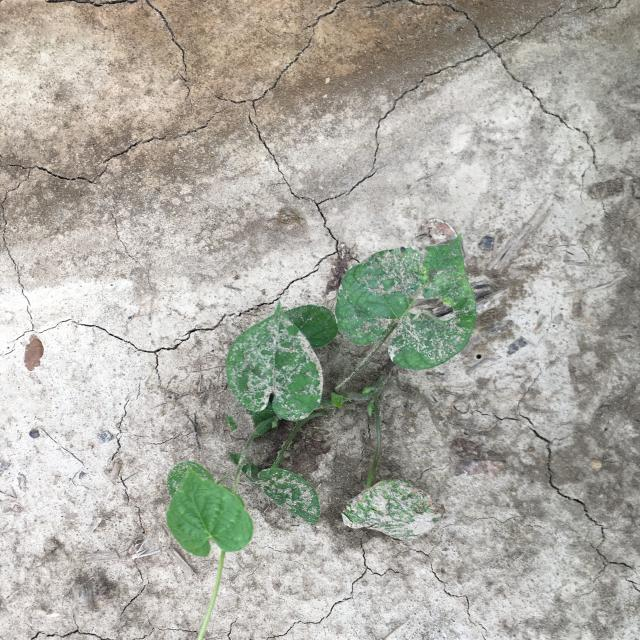MorningGlory: (165, 232, 477, 639)
